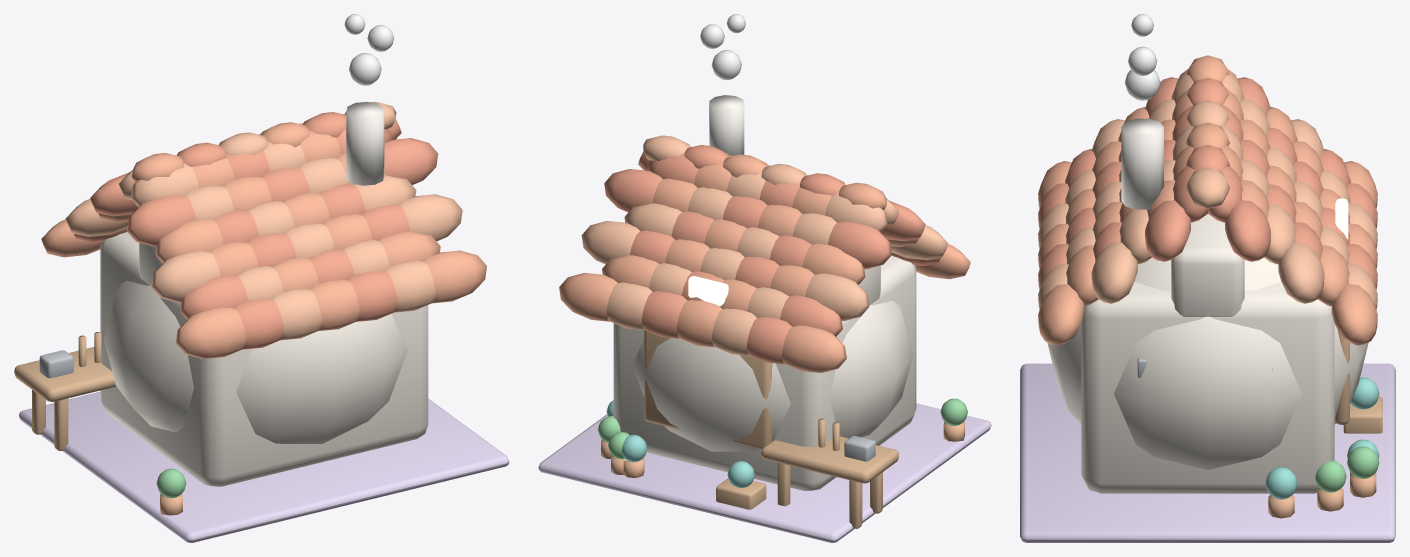
File: cozy_workshop_A.glb
3 views of the same model, side by side, from view 1: azimuth 30°, elevation 25°; view 2: azimuth 150°, elevation 25°; view 3: azimuth 270°, elevation 25° (orthographic). The views are drawn at different scales.
Parts seen in each view (by area): view 1: BodySoft, Base, BodyCore, Chimney, Roof_B_0_0, BenchTop, Roof_B_0_6, Roof_B_2_0, Roof_B_4_0, Roof_B_2_6, Roof_B_4_6, Roof_B_0_5 (+43 smaller); view 2: BodySoft, Base, BodyCore, BenchTop, WinFrame, Roof_F_0_0, Roof_F_0_6, Roof_F_4_0, Roof_F_2_0, Chimney, Roof_F_4_6, Roof_F_2_6 (+51 smaller); view 3: Base, BodySoft, BodyCore, Gable, Chimney, Roof_B_0_6, Roof_F_0_6, Roof_B_2_6, Roof_F_2_6, Roof_B_4_6, Roof_F_4_6, Roof_Ridge_5 (+67 smaller).
Part boxes in pixels (x1,y1,x2,y2): BodySoft: (104, 280, 407, 444); Base: (19, 392, 509, 542); BodyCore: (100, 232, 428, 486); Chimney: (346, 101, 384, 185); Roof_B_0_0: (175, 307, 245, 358); BenchTop: (14, 347, 116, 401); Roof_B_0_6: (423, 250, 486, 303); Roof_B_2_0: (151, 251, 220, 302); Roof_B_4_0: (126, 195, 195, 246); Roof_B_2_6: (399, 194, 462, 241); Roof_B_4_6: (384, 138, 438, 185); Roof_B_0_5: (386, 261, 435, 312); BodySoft: (632, 301, 912, 451); Base: (538, 403, 991, 542); BodyCore: (613, 255, 916, 490); BenchTop: (761, 436, 898, 483); WinFrame: (644, 330, 772, 449); Roof_F_0_0: (782, 325, 846, 372); Roof_F_0_6: (559, 273, 617, 321); Roof_F_4_0: (828, 221, 891, 269); Roof_F_2_0: (805, 273, 869, 321); Chimney: (709, 95, 744, 155); Roof_F_4_6: (604, 169, 662, 212); Roof_F_2_6: (581, 221, 639, 264); Base: (1020, 363, 1395, 542); BodySoft: (1047, 257, 1368, 469); BodyCore: (1081, 282, 1334, 493); Gable: (1171, 214, 1244, 316); Chimney: (1121, 118, 1163, 209); Roof_B_0_6: (1038, 284, 1084, 345); Roof_F_0_6: (1331, 284, 1377, 345); Roof_B_2_6: (1091, 242, 1137, 303); Roof_F_2_6: (1278, 242, 1324, 303); Roof_B_4_6: (1145, 200, 1190, 261); Roof_F_4_6: (1225, 200, 1270, 261); Roof_Ridge_5: (1186, 167, 1229, 208).
Bounding box in the file's own units: 2.65 × 3.26 × 2.3.
